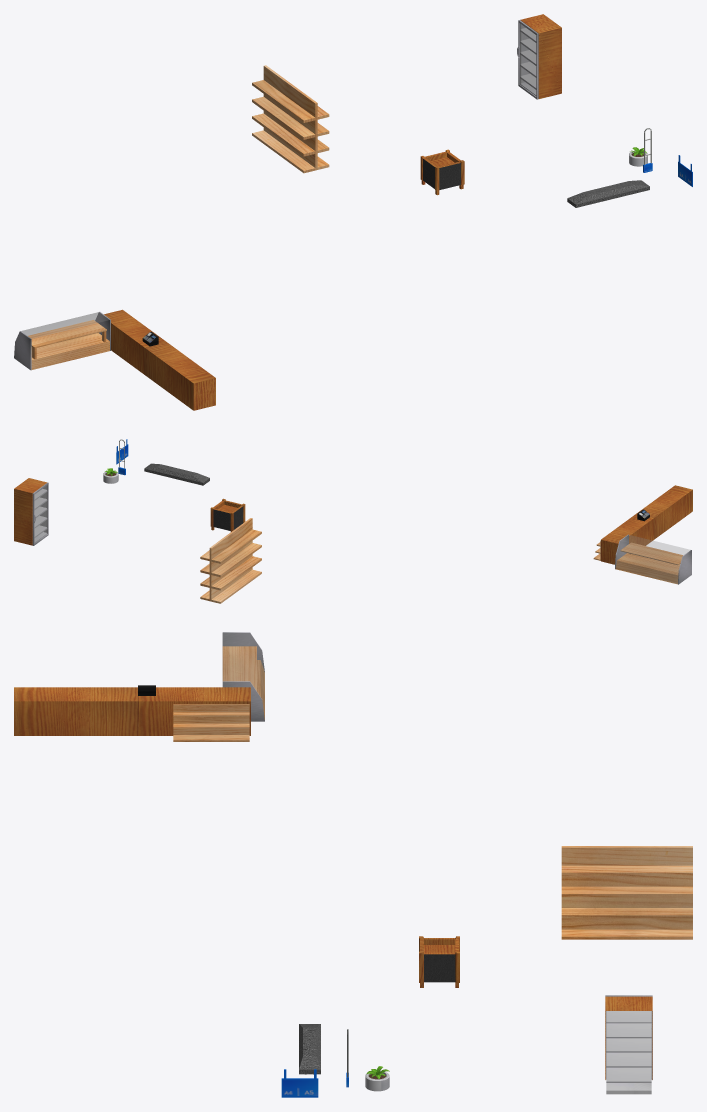
The model's file is market props.fbx.
The picture shows the model from 3 angles, top to bottom: view 1: azimuth 30°, elevation 25°; view 2: azimuth 150°, elevation 25°; view 3: azimuth 270°, elevation 25°; orthographic projection. The views are drawn at different scales.
Visible parts, largest first — view 1: shelfB, block_long, showaces, fridge, glass (×2), fruit_shelf, FlurescentLight; view 2: shelfB, glass (×2), block_long, showaces, fridge, fruit_shelf, FlurescentLight; view 3: shelfB, block_long, fridge, shelfM, showaces, glass, fruit_shelf, FlurescentLight, sign.
Part boxes in pixels (x1,y1,x2,y2): shelfB: (252, 65, 329, 173); block_long: (104, 309, 215, 410); showaces: (14, 311, 110, 370); fridge: (517, 14, 561, 99); glass (×2): (21, 24, 535, 338); fruit_shelf: (420, 149, 464, 195); FlurescentLight: (567, 180, 649, 207); shelfB: (200, 518, 261, 603); glass (×2): (35, 486, 689, 583); block_long: (601, 485, 692, 564); showaces: (615, 534, 691, 584); fridge: (14, 478, 48, 545); fruit_shelf: (210, 498, 245, 531); FlurescentLight: (144, 463, 209, 485); shelfB: (561, 846, 692, 939); block_long: (14, 687, 250, 735); fridge: (605, 995, 652, 1094); shelfM: (173, 704, 249, 741); showaces: (222, 632, 264, 721); glass: (222, 633, 264, 714); fruit_shelf: (419, 936, 459, 987); FlurescentLight: (299, 1024, 320, 1074); sign: (281, 1069, 318, 1097).
Bounding box in the file's own units: 412 × 39.34 × 279.
